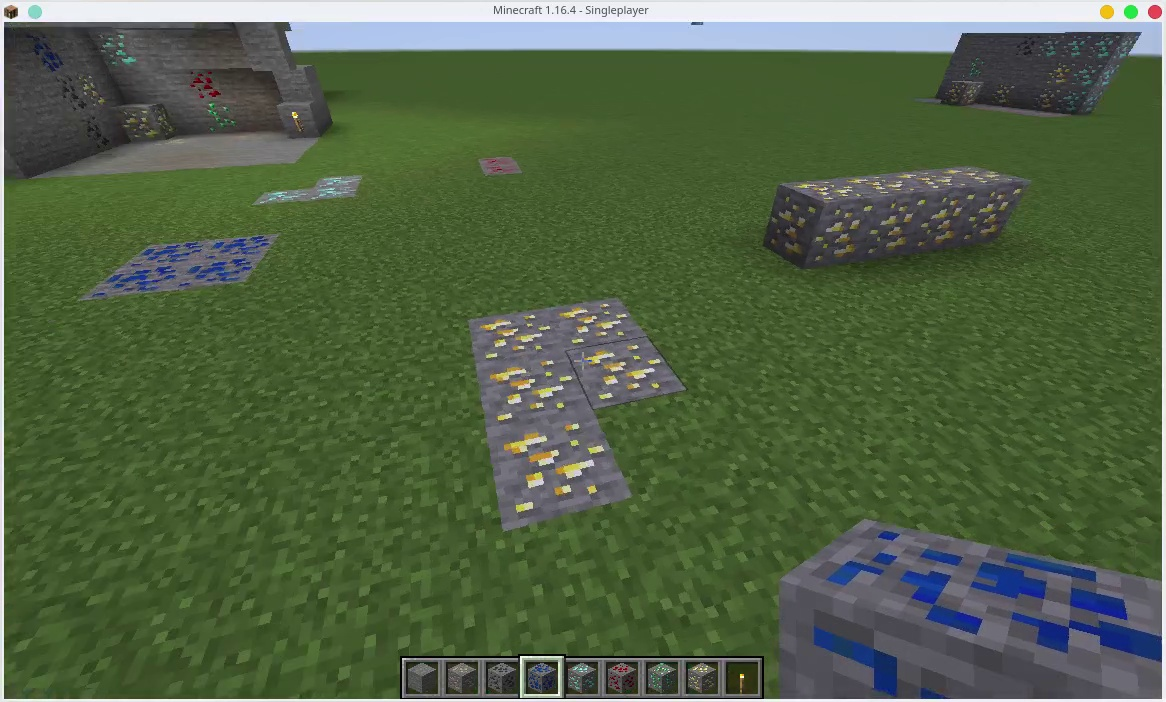gold: (480, 425, 608, 503), (771, 182, 855, 259), (584, 348, 662, 407), (907, 170, 965, 245), (958, 162, 1008, 249), (483, 361, 575, 405), (862, 178, 915, 254), (476, 311, 558, 354), (564, 307, 634, 346), (126, 98, 174, 146), (80, 73, 115, 110), (687, 662, 716, 692), (1031, 82, 1059, 108), (950, 83, 978, 108), (1050, 66, 1065, 80)
